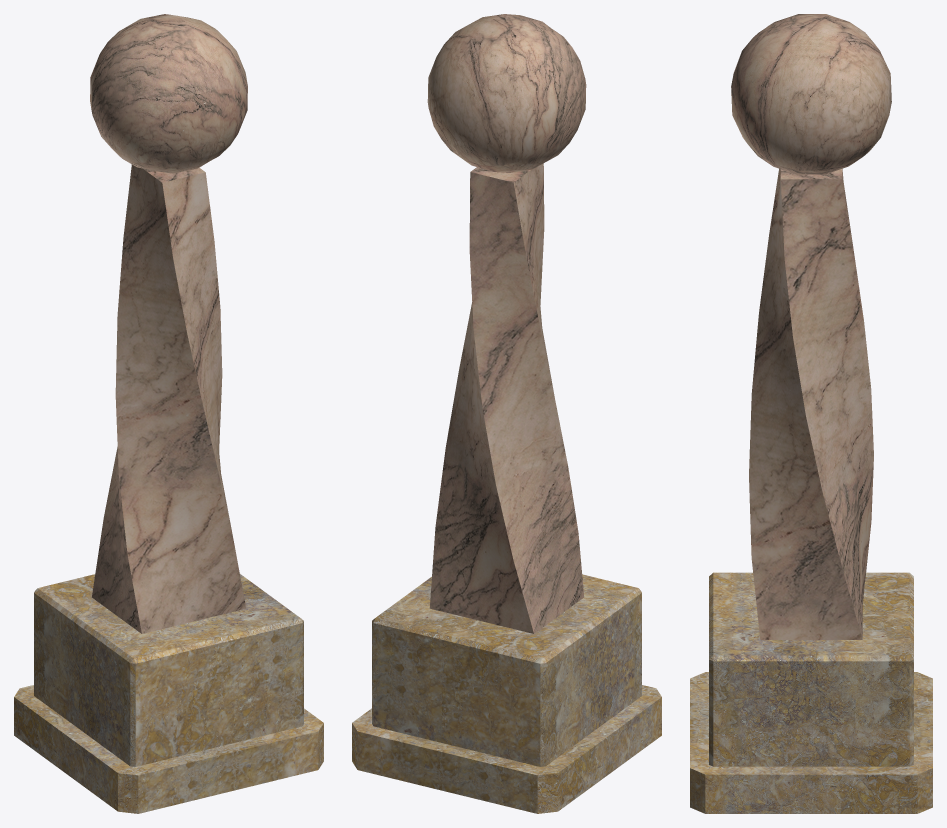
File: statue_b.FBX
3 views of the same model, side by side, from view 1: azimuth 30°, elevation 25°; view 2: azimuth 150°, elevation 25°; view 3: azimuth 270°, elevation 25° (orthographic). The views are drawn at different scales.
Parts seen in each view (by area): view 1: statue_b; view 2: statue_b; view 3: statue_b.
Boxes of the visible parts, x1=… form: statue_b: x1=14, y1=14, x2=323, y2=813; statue_b: x1=352, y1=14, x2=661, y2=813; statue_b: x1=690, y1=14, x2=932, y2=813.
Size of the model in its own units: 59.24 by 199 by 59.24.
